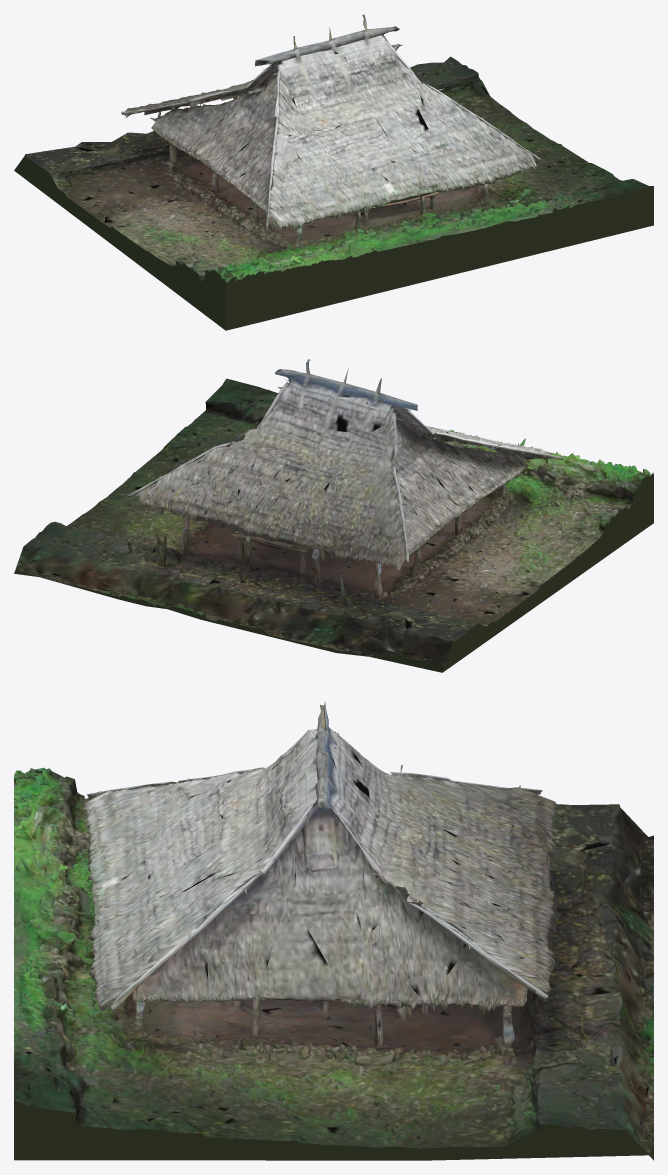
Rendered from leworahang.glb.
3 views of the same model, one above another, from view 1: azimuth 30°, elevation 25°; view 2: azimuth 150°, elevation 25°; view 3: azimuth 270°, elevation 25° (orthographic). The views are drawn at different scales.
Visible parts, largest first — view 1: Object_2; view 2: Object_2; view 3: Object_2.
Part boxes in pixels (x1=…): Object_2: x1=14, y1=14, x2=653, y2=330; Object_2: x1=14, y1=359, x2=653, y2=672; Object_2: x1=14, y1=701, x2=653, y2=1160.
Size of the model in its own units: 12.24 by 4.95 by 10.54.
Materials: 1 (1 with a texture image).
